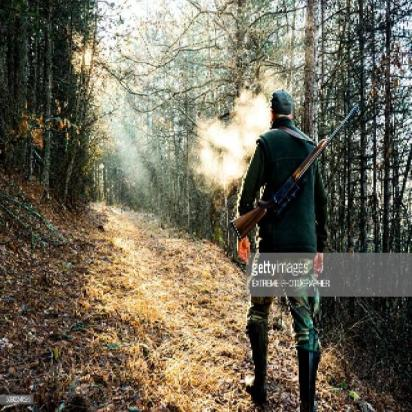Gun: (229, 102, 362, 240)
